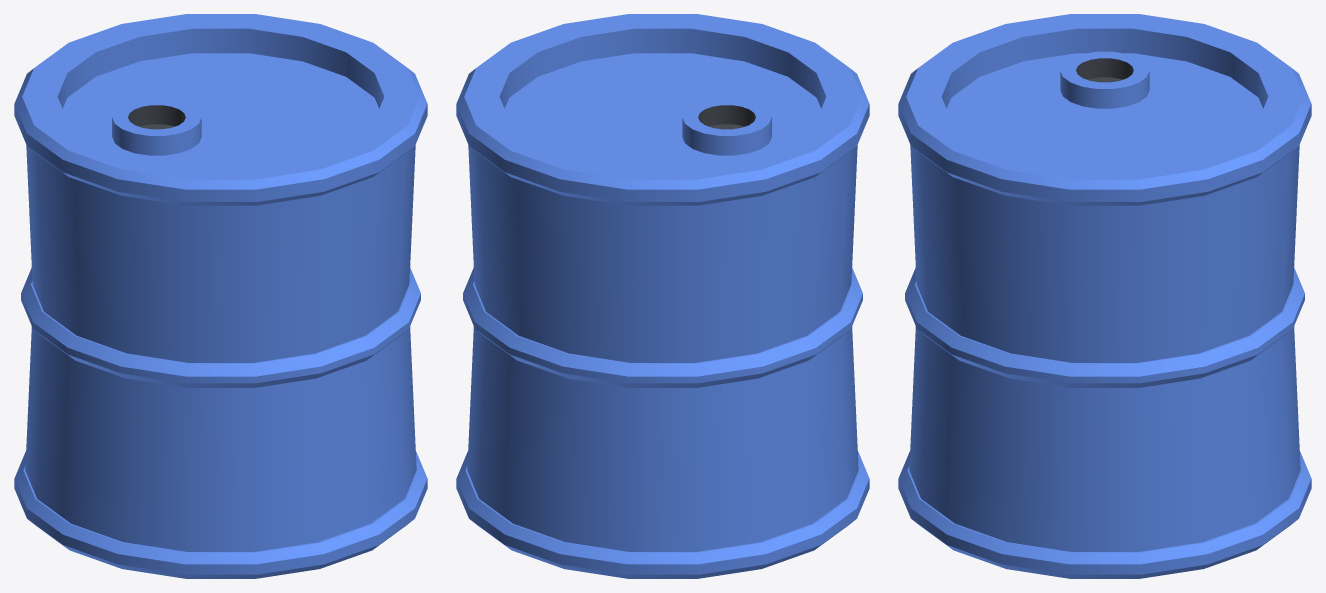
The model's file is Barrel001.fbx.
The picture shows the model from 3 angles, left to right: view 1: azimuth 30°, elevation 25°; view 2: azimuth 150°, elevation 25°; view 3: azimuth 270°, elevation 25°; orthographic projection.
Visible parts, largest first — view 1: Barrel001; view 2: Barrel001; view 3: Barrel001.
Boxes of the visible parts, x1=… form: Barrel001: x1=14, y1=14, x2=427, y2=578; Barrel001: x1=456, y1=14, x2=869, y2=578; Barrel001: x1=898, y1=14, x2=1311, y2=578.
Size of the model in its own units: 144 by 156 by 146.
